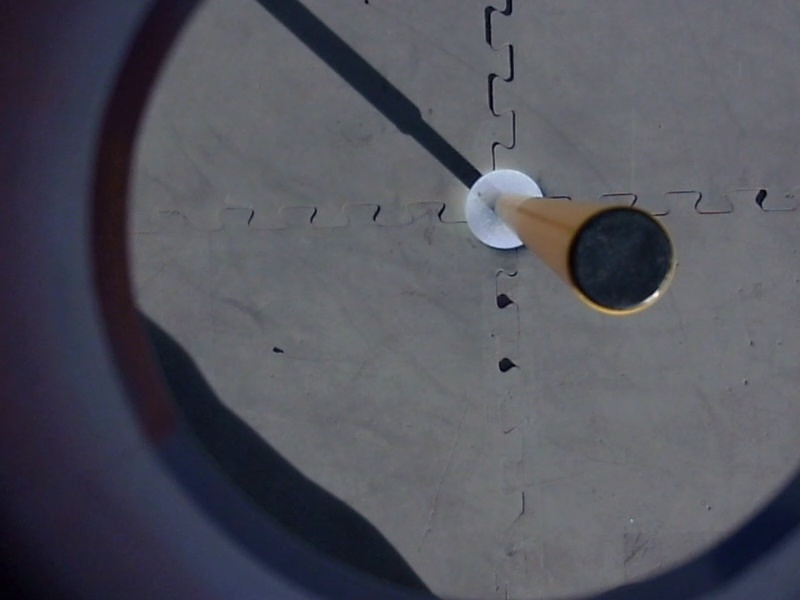tip: (559, 200, 680, 321)
